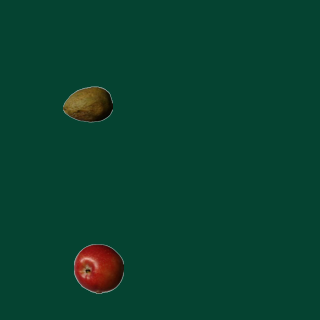Apple Braeburn: (73, 243, 123, 293)
Papaya: (62, 79, 112, 129)
